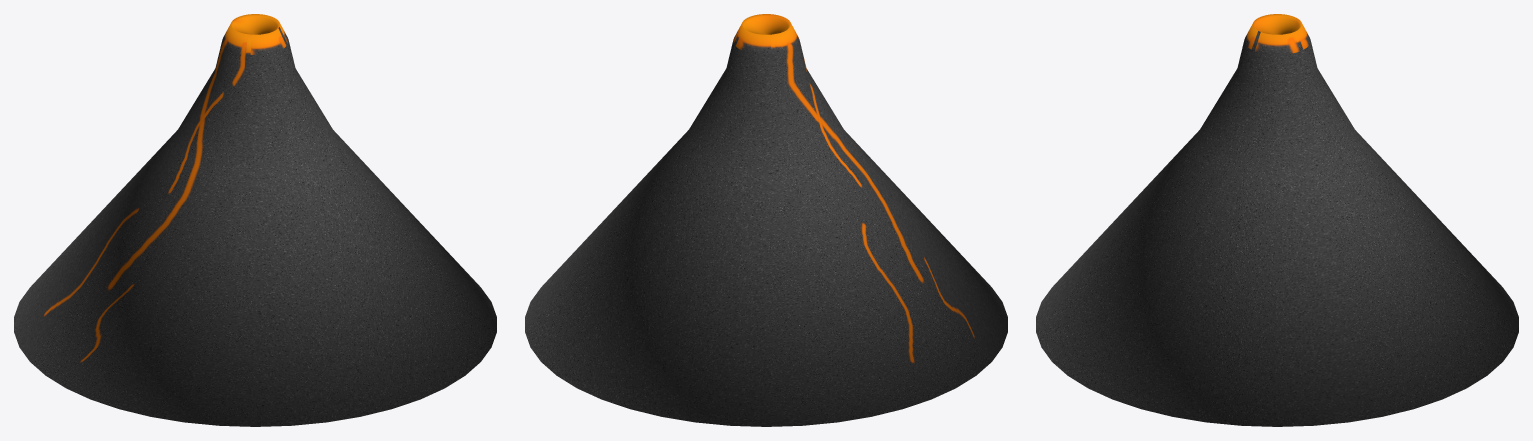
Rendered from volcano.FBX.
3 renders of one model, left to right at view 1: azimuth 30°, elevation 25°; view 2: azimuth 150°, elevation 25°; view 3: azimuth 270°, elevation 25°, orthographic.
Parts seen in each view (by area): view 1: volcano; view 2: volcano; view 3: volcano.
Part boxes in pixels (box(x1,y1,x2,y2)): volcano: box(14, 14, 496, 426); volcano: box(525, 14, 1007, 426); volcano: box(1036, 14, 1518, 426).
Size of the model in its own units: 47.84 by 32.73 by 47.7.
Materials: 1 (1 with a texture image).
